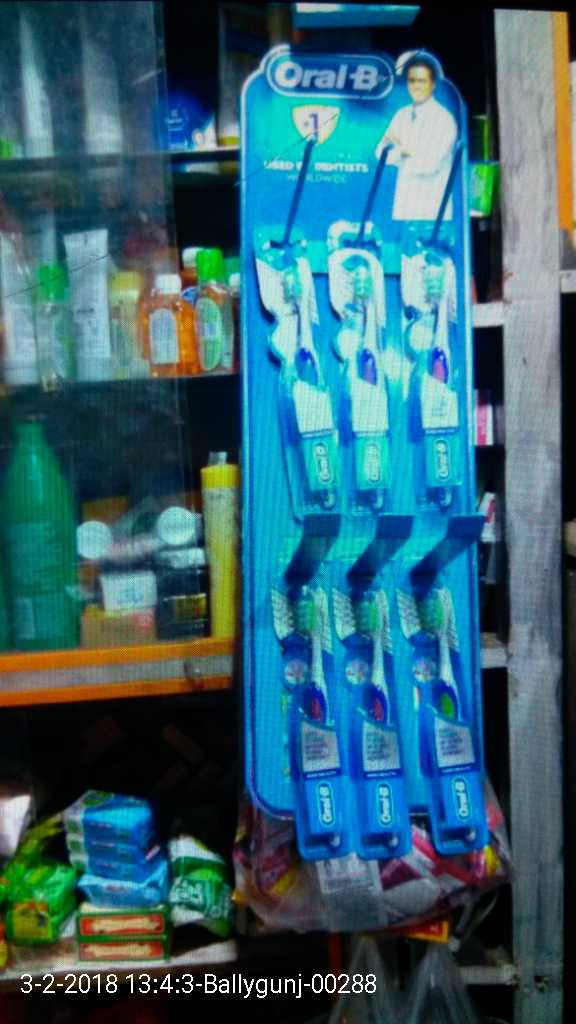oralb: (327, 574, 417, 854), (259, 221, 339, 517), (400, 581, 489, 846), (329, 221, 400, 504), (279, 567, 345, 857), (397, 217, 462, 501)
